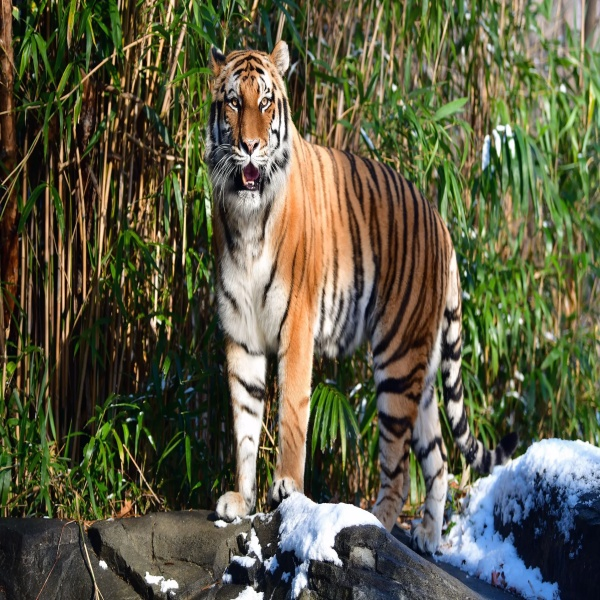Tiger: (202, 37, 522, 554)
